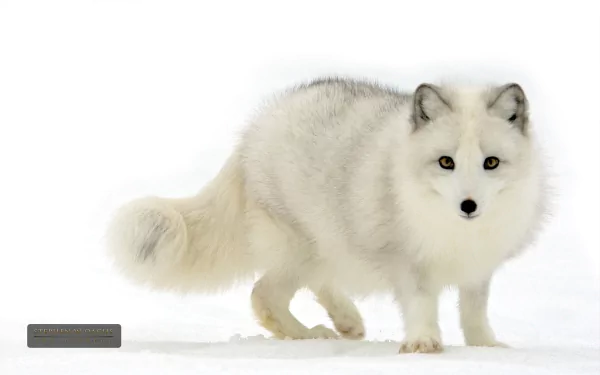arcticfox: (426, 120, 503, 236)
